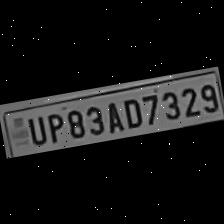2: (176, 82, 200, 119)
3: (81, 101, 105, 138), (157, 86, 180, 122)
7: (137, 90, 161, 127)
8: (62, 104, 86, 140)
9: (195, 80, 219, 116)
A: (101, 97, 125, 135)
D: (120, 94, 142, 130)
P: (43, 108, 67, 146)
U: (23, 112, 47, 148)
